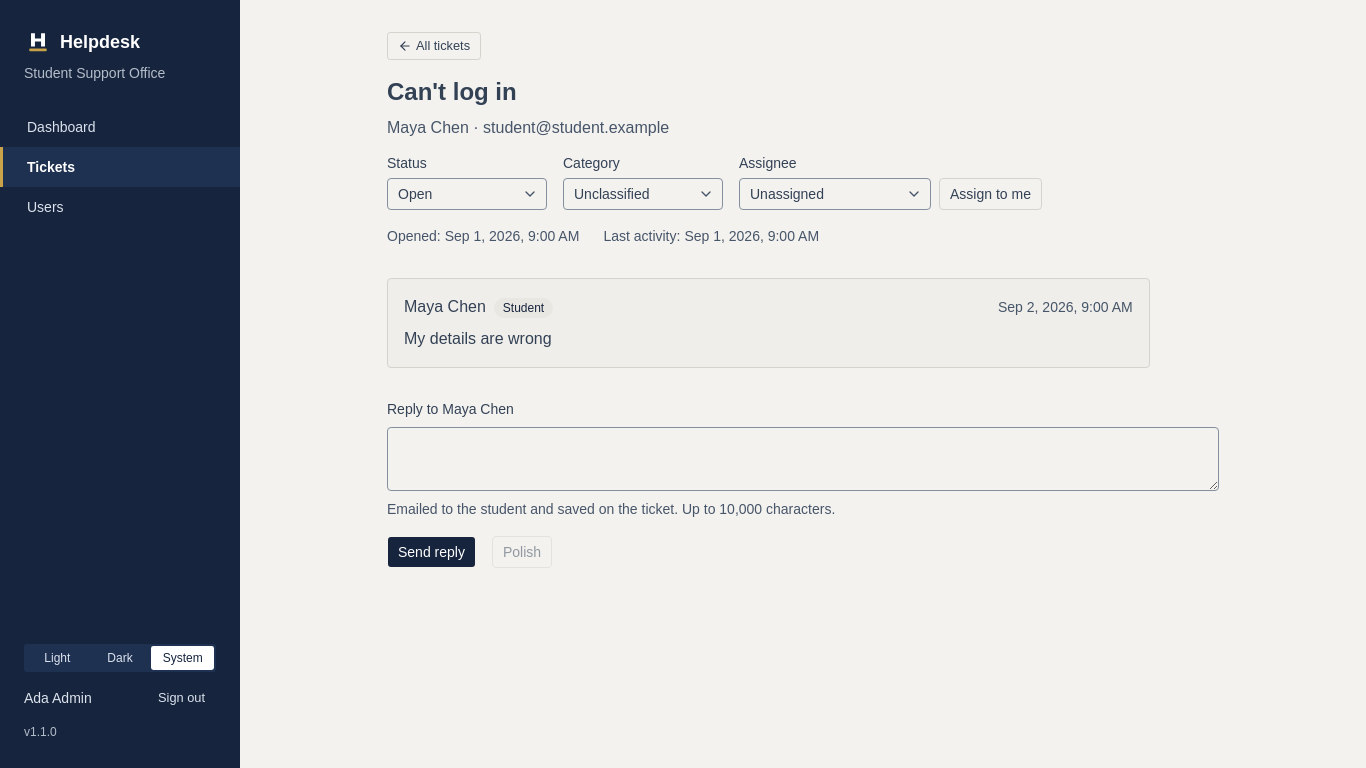
an empty reply is refused before any request
The image size is (1366, 768).
Check: the text box labelled "Reply to Maya Chen" is shown, box [387, 427, 1219, 491]
Click the button "Send reply".
click(431, 552)  # box [387, 536, 476, 568]
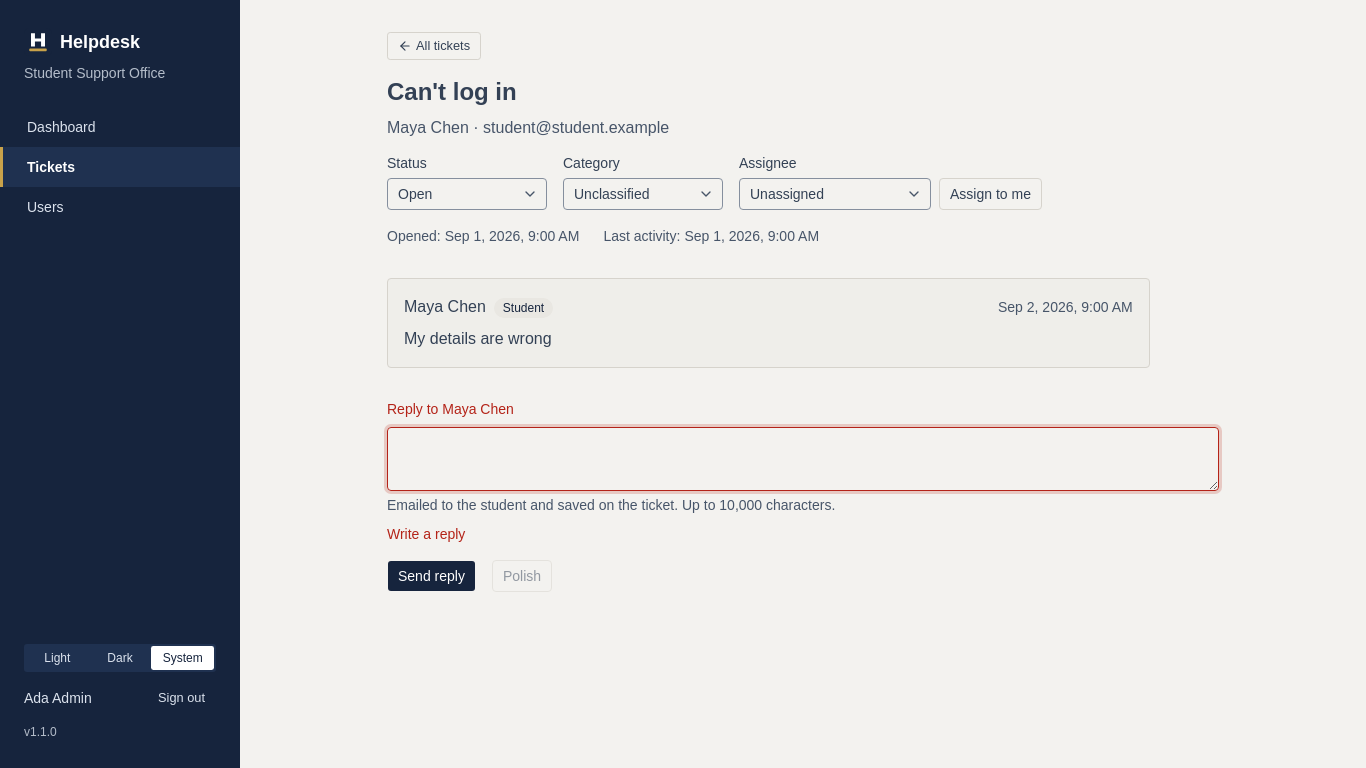
Check: the text "Write a reply" is shown, box [387, 526, 465, 542]
